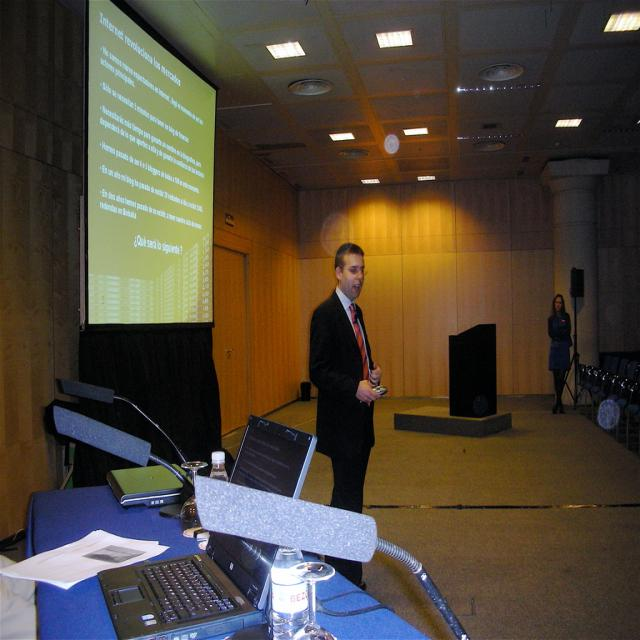desk: (9, 403, 292, 617)
laptop: (205, 412, 318, 502)
person: (307, 242, 387, 521), (547, 292, 574, 416)
